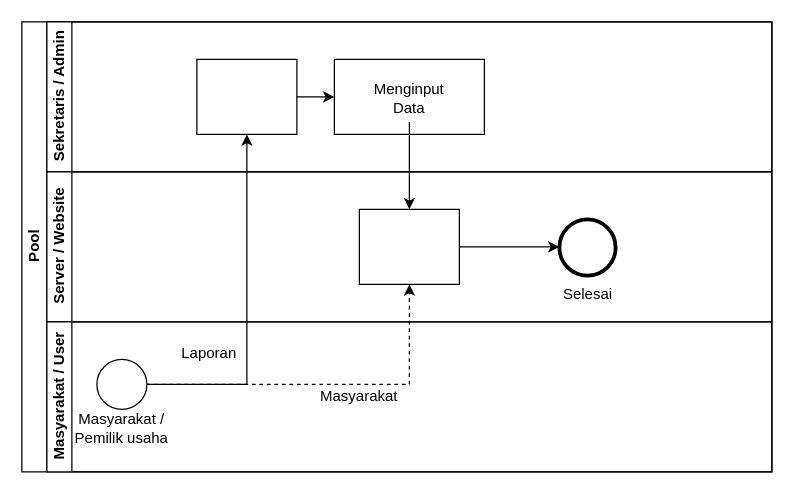
This 794x494 diagram has some shape labels left out. Each missing label, with the centre of its shape:
"Menampilkan Data" belongs at point (408, 246).
"Mendapatkan Data" belongs at point (246, 96).
